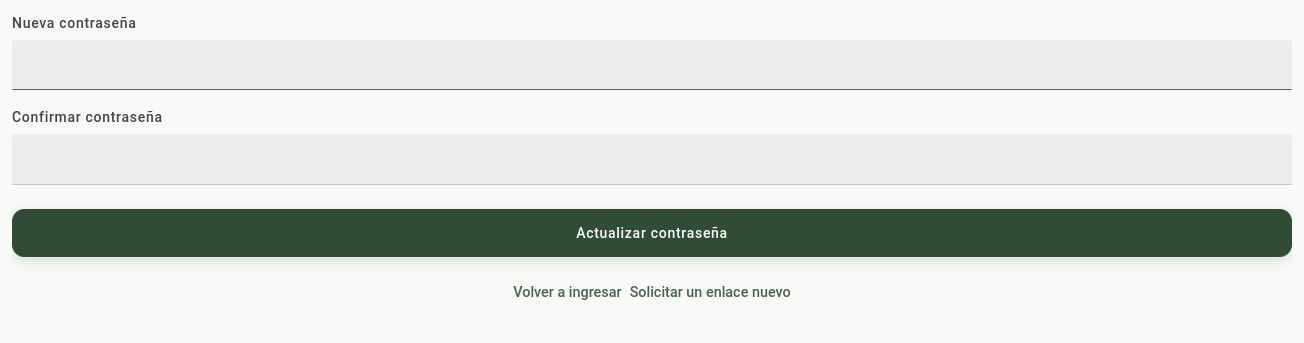
Test: ResetPasswordForm › rejects mismatched confirmation with an accessible error
Type "newpassword123" into the password field labelled "Nueva contraseña". click: (652,65)
box: top-left (12, 40), bottom-right (1292, 90)
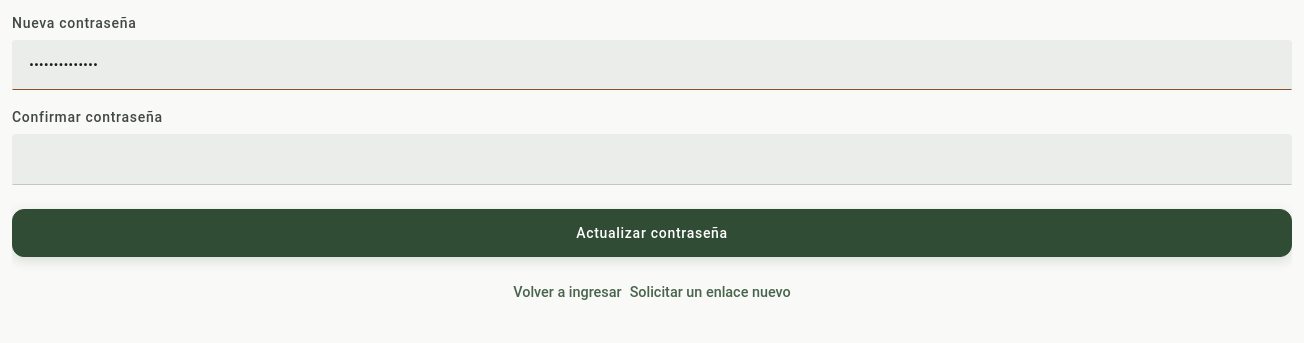
Type "different" into the password field labelled "Confirmar contraseña". click: (652,160)
box: top-left (12, 134), bottom-right (1292, 185)
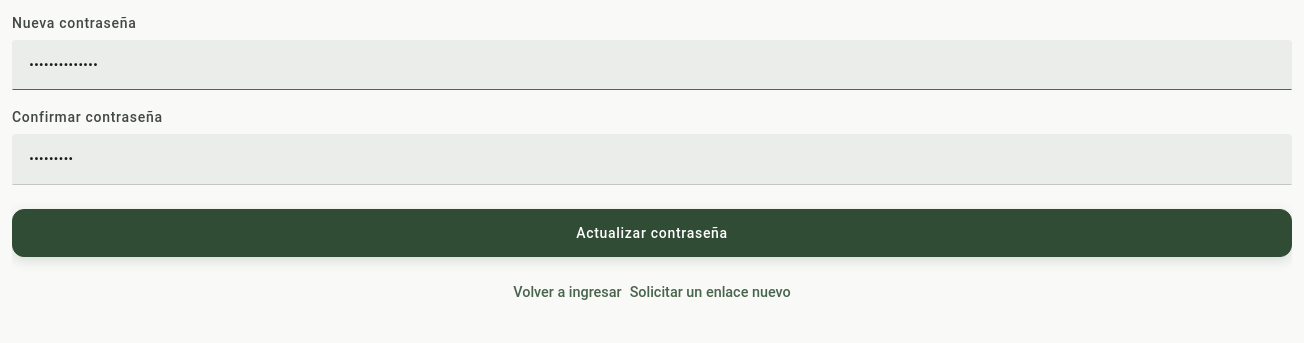
Click the button "Actualizar contraseña". click: (652,233)
box: top-left (12, 209), bottom-right (1292, 257)
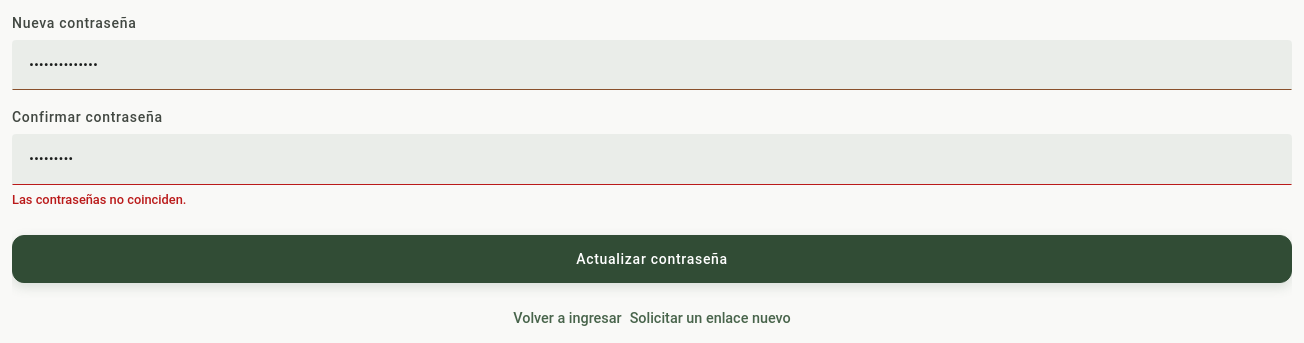
Check: the text "Las contraseñas no coinciden." is shown, box top-left (12, 192), bottom-right (186, 207)
